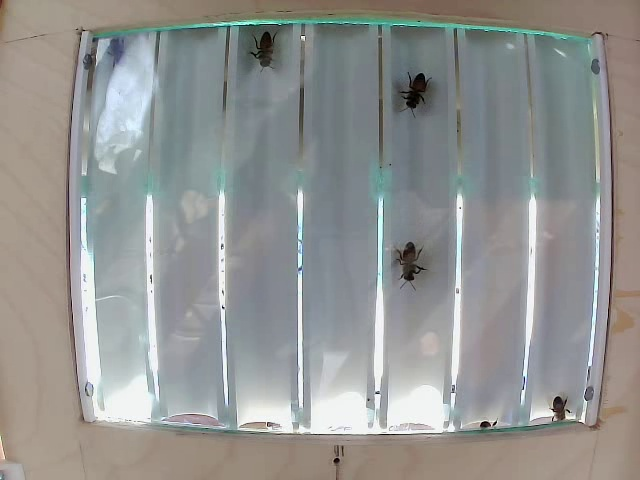bee: (255, 25, 303, 80), (409, 75, 439, 122), (396, 228, 426, 275), (546, 396, 569, 417)
